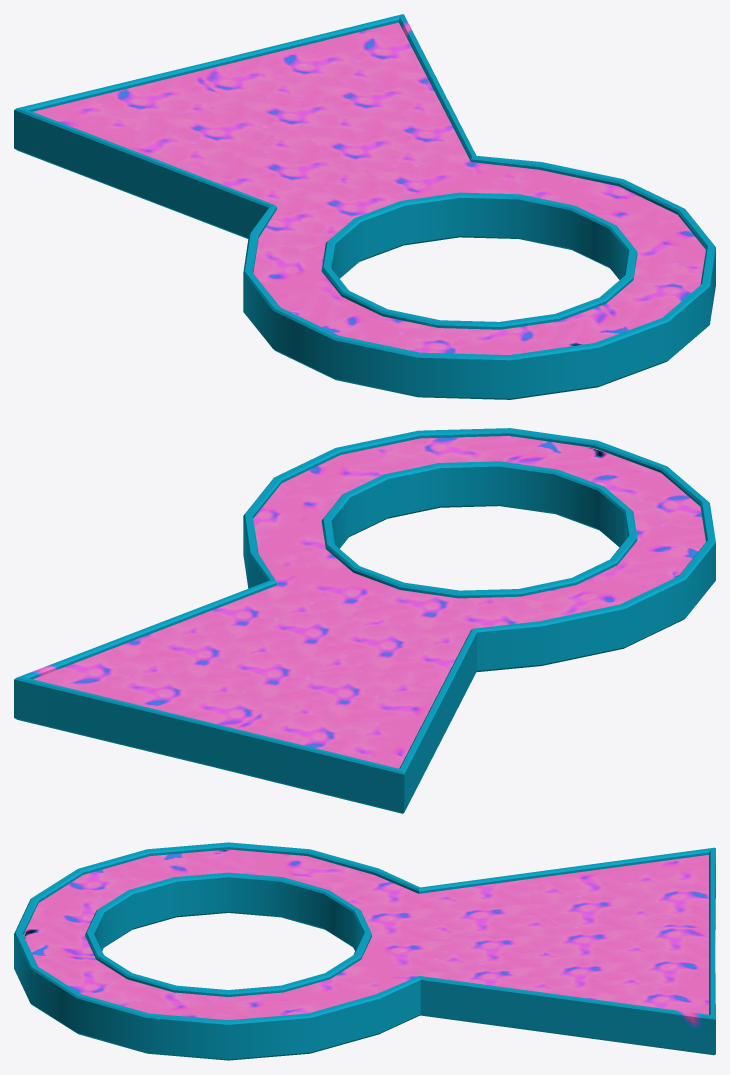
File: PLF0110048.fbx
3 views of the same model, one above another, from view 1: azimuth 30°, elevation 25°; view 2: azimuth 150°, elevation 25°; view 3: azimuth 270°, elevation 25° (orthographic). The views are drawn at different scales.
Visible parts, largest first — view 1: smPLF0110048; view 2: smPLF0110048; view 3: smPLF0110048.
Boxes of the visible parts, x1,y1,x2,y2 form: smPLF0110048: [14, 14, 715, 399]; smPLF0110048: [14, 428, 715, 813]; smPLF0110048: [14, 842, 715, 1060].
Size of the model in its own units: 945 by 92.49 by 1544.
1 material, 1 textured.
